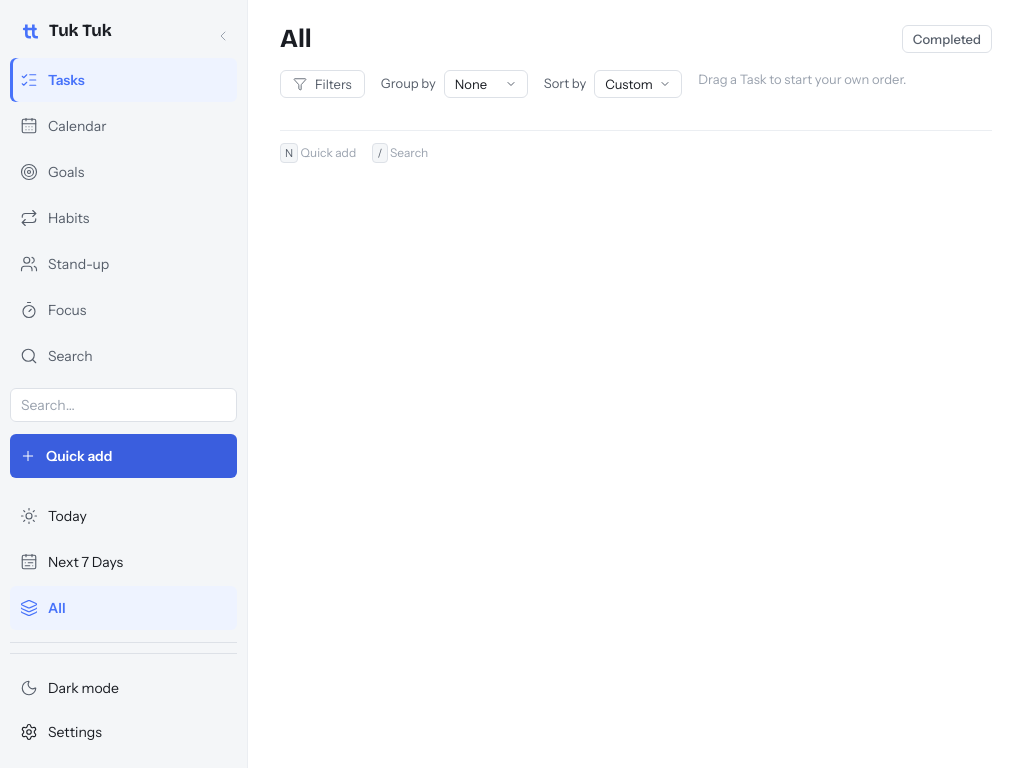
Test: Calendar entries coloured by their List (issue #203) › tints a Task block with its List's colour
What coordinates should you click on to do the following:
click the link "Calendar"
I would click on:
 (63, 126)
Its box is [20,116,106,135].
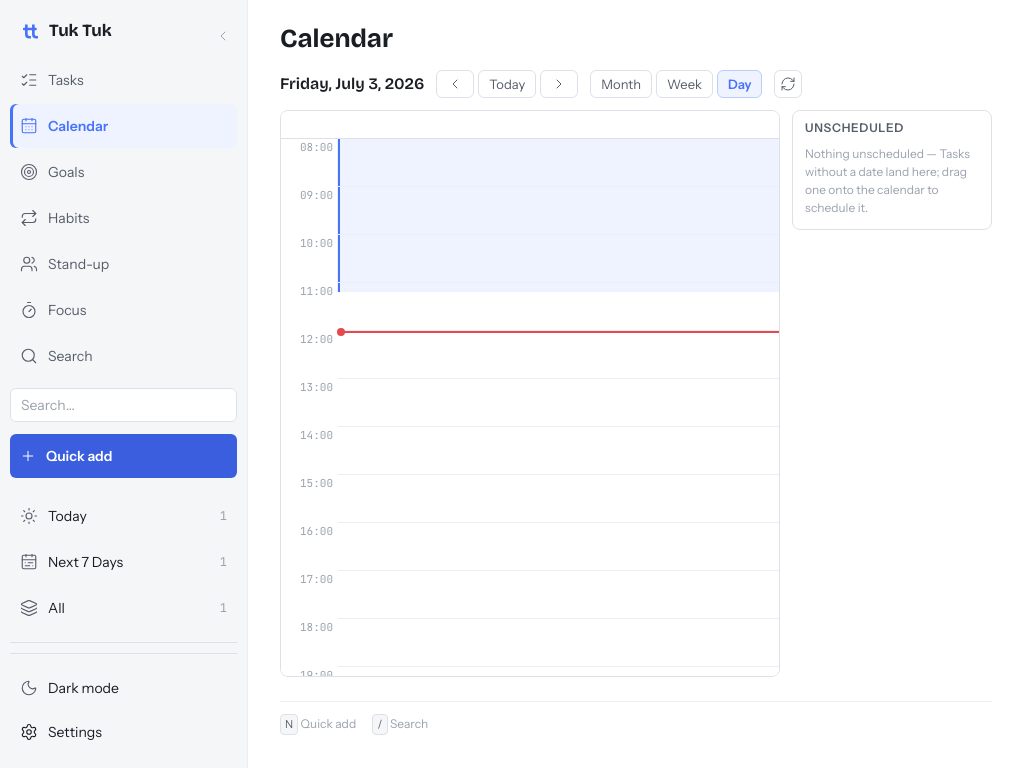
Check: the heading "Friday, July 3, 2026" is shown, box [280,72,424,96]
What coordinates should you click on to do the following:
click the button "Month"
I would click on:
 (621, 84)
Its box is [590,70,652,98].
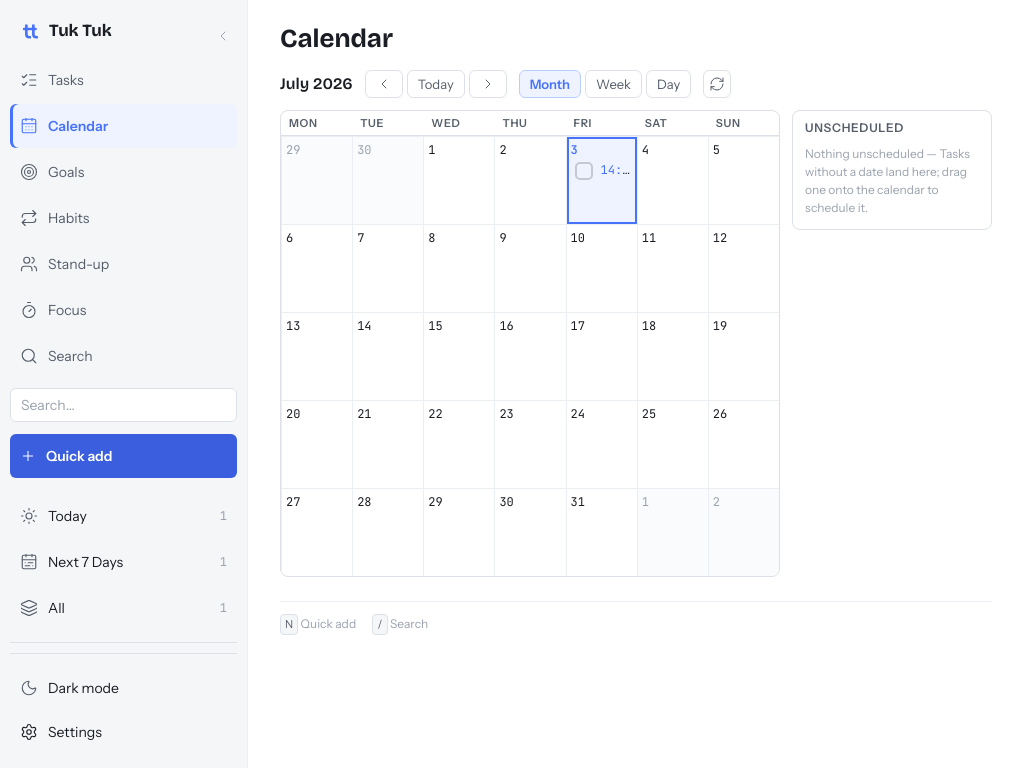
Check: the heading "July 2026" is shown, box [280,72,353,96]
What coordinates should you click on to do the following:
click the button "Day"
I would click on:
 (669, 84)
Its box is [646,70,691,98].
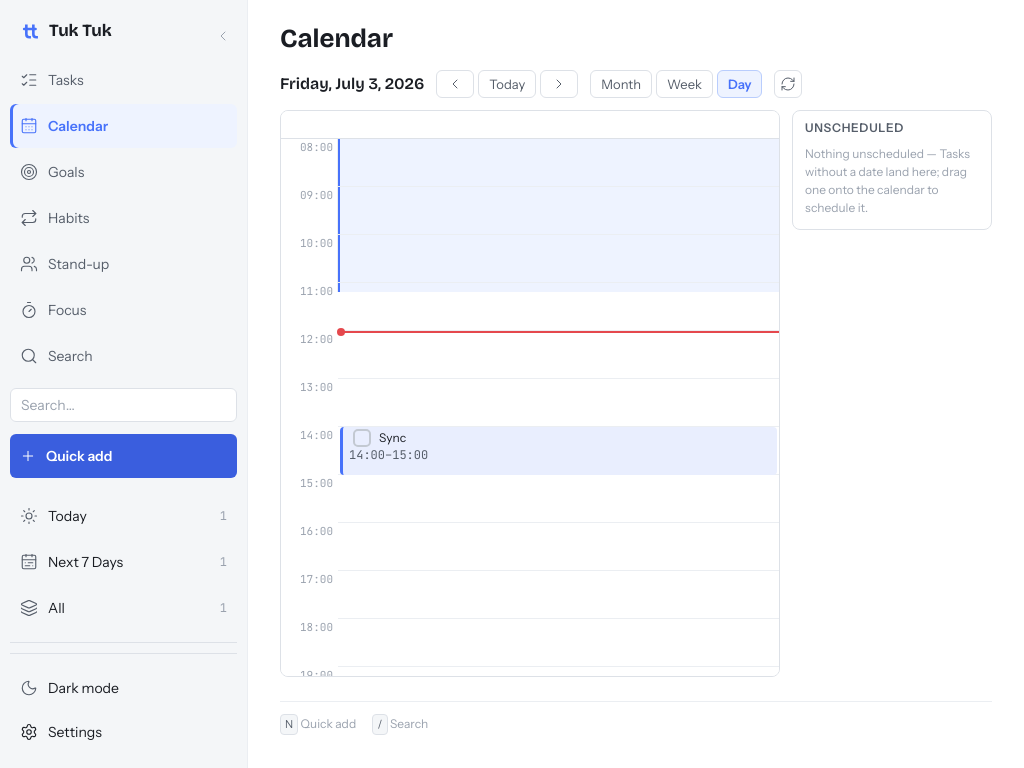
Check: the heading "Friday, July 3, 2026" is shown, box [280,72,424,96]
